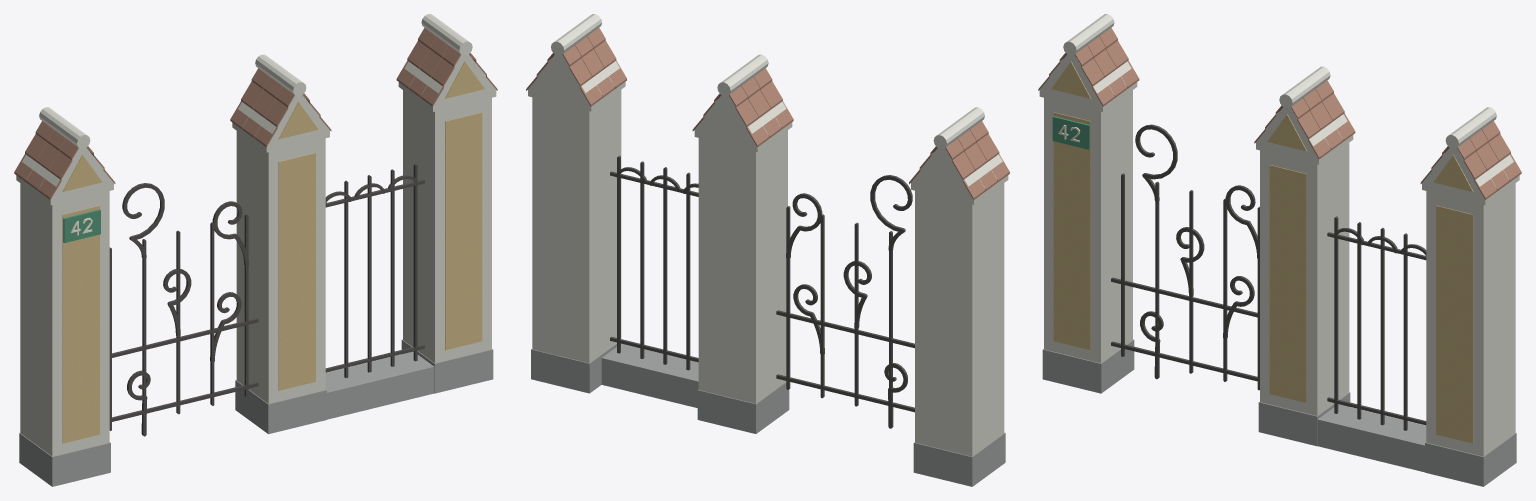
The model's file is huating-42-gabled-gateposts-far.glb.
3 views of the same model, side by side, from view 1: azimuth 30°, elevation 25°; view 2: azimuth 150°, elevation 25°; view 3: azimuth 330°, elevation 25° (orthographic).
Parts seen in each view (by area): view 1: 华亭路42号三座瓦顶门柱与铁栏; view 2: 华亭路42号三座瓦顶门柱与铁栏; view 3: 华亭路42号三座瓦顶门柱与铁栏.
Part boxes in pixels (x1,y1,x2,y2): 华亭路42号三座瓦顶门柱与铁栏: (14, 14, 497, 486); 华亭路42号三座瓦顶门柱与铁栏: (526, 14, 1009, 486); 华亭路42号三座瓦顶门柱与铁栏: (1038, 14, 1521, 486).
Size of the model in its own units: 3.15 by 2.33 by 0.462.
Materials: 8 (1 with a texture image).
